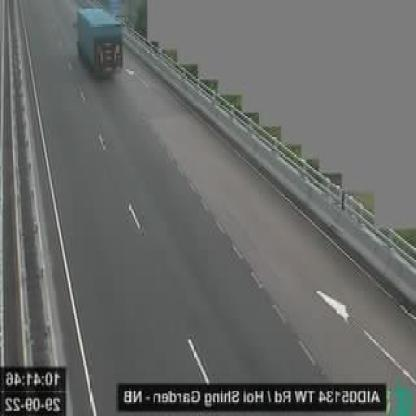Truck: (66, 4, 132, 90)
